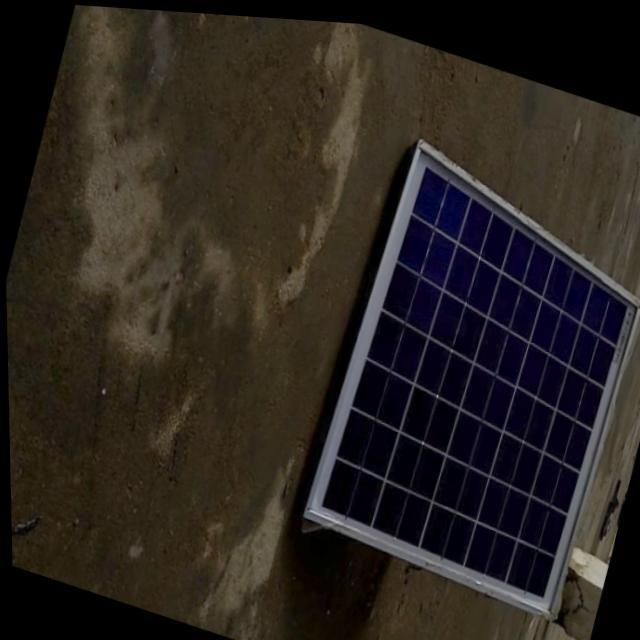Normal Solar Panel: (289, 121, 640, 616)
